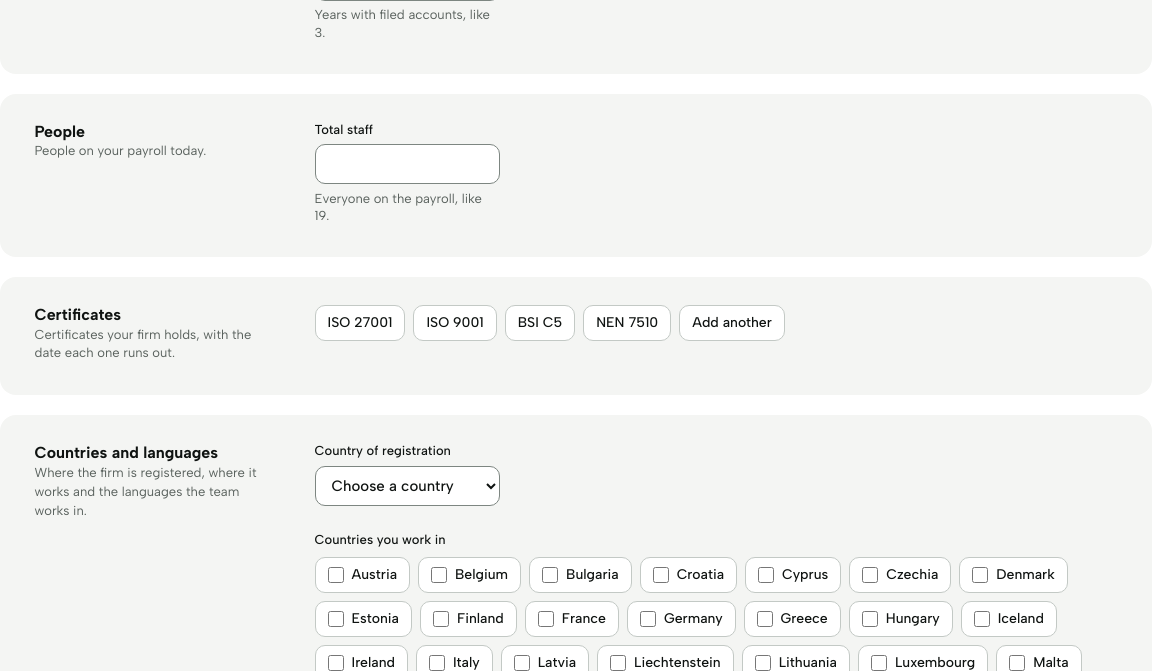
ProfileForm, values and errors › keeps a held certificate with no date
This screenshot has width=1152, height=671.
(page scrolled)
Click the button "BSI C5": click(540, 323) [505,305,575,341]
(page scrolled)
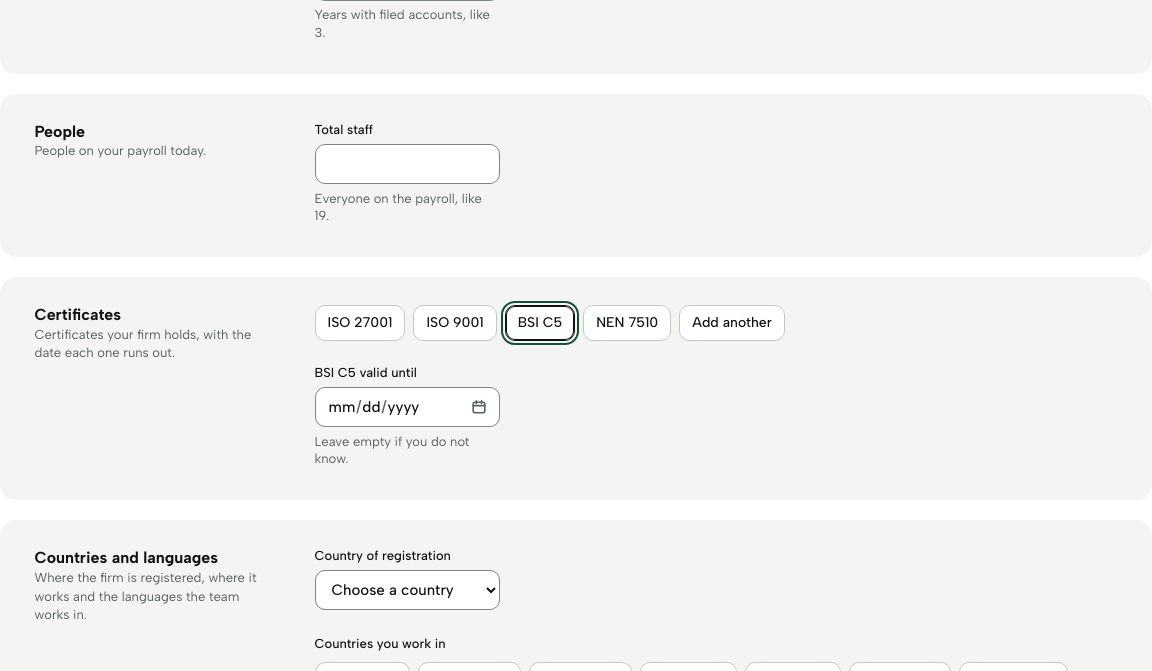
Check: the text "Leave empty if you do not know." is shown, box [314,434,469,466]
